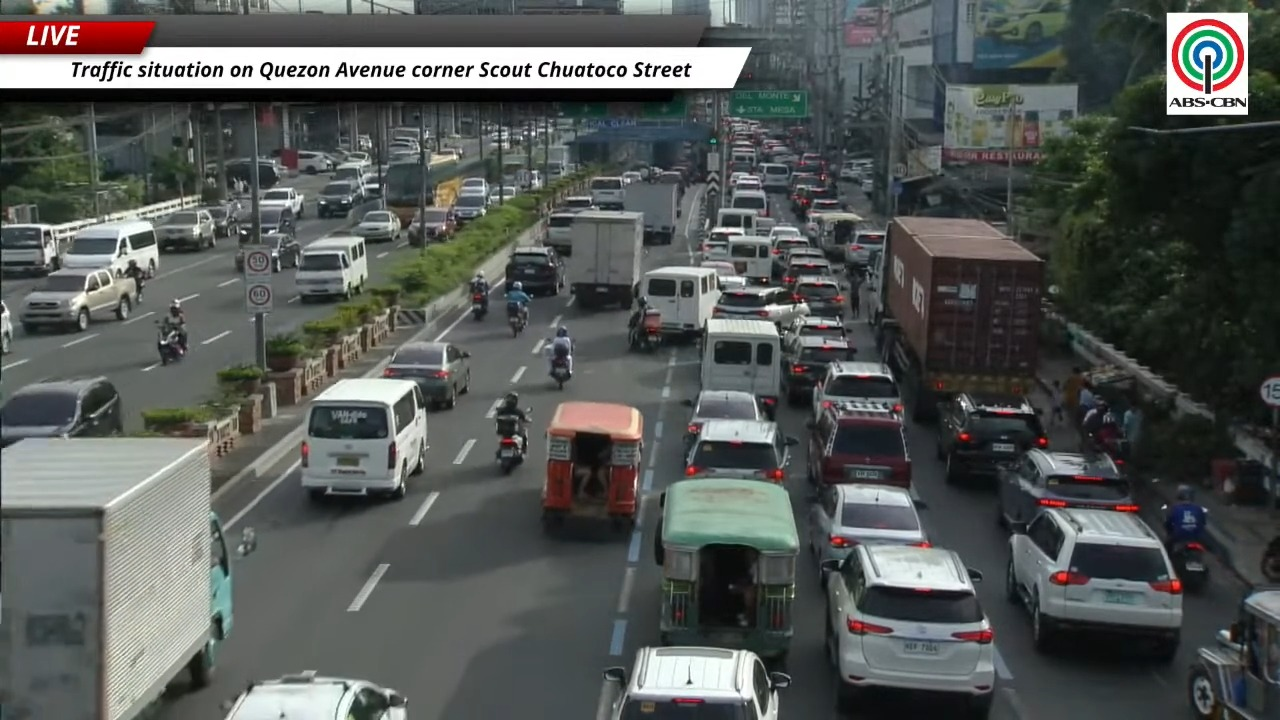bus: (383, 155, 460, 226)
car: (823, 544, 995, 717), (1005, 508, 1182, 661), (604, 646, 790, 719), (997, 450, 1138, 525), (937, 392, 1048, 482), (808, 484, 929, 565), (807, 402, 911, 487), (225, 671, 407, 719), (0, 376, 122, 445), (20, 268, 135, 334), (685, 419, 797, 483), (383, 341, 470, 408), (812, 361, 902, 417), (782, 336, 855, 405), (683, 390, 765, 451), (982, 0, 1067, 45), (712, 286, 808, 325), (505, 246, 564, 295), (155, 208, 216, 250), (792, 275, 845, 317), (782, 253, 834, 291), (407, 208, 455, 246), (804, 193, 845, 236), (771, 236, 811, 279), (317, 180, 362, 218), (783, 316, 846, 342), (845, 229, 886, 268), (353, 210, 400, 242), (262, 234, 301, 272), (699, 227, 745, 259), (200, 201, 239, 237), (453, 189, 488, 224), (698, 260, 739, 288), (790, 180, 818, 219), (259, 207, 296, 236), (778, 242, 824, 265), (297, 150, 333, 174), (0, 301, 13, 354), (458, 176, 489, 197), (790, 173, 820, 193), (769, 225, 802, 242), (558, 196, 594, 211), (489, 185, 517, 204), (719, 275, 748, 291), (839, 161, 860, 181), (346, 152, 371, 164), (621, 171, 642, 183), (860, 178, 873, 195)
motorcycle: (1170, 540, 1209, 592), (1170, 541, 1208, 592), (495, 414, 526, 473), (629, 311, 662, 352), (1094, 437, 1130, 471), (157, 323, 185, 364), (1260, 535, 1279, 583), (550, 358, 570, 389), (508, 311, 526, 336), (471, 293, 487, 320)
truck: (0, 439, 255, 719), (869, 216, 1044, 421), (566, 211, 643, 308), (624, 182, 679, 244), (0, 223, 63, 274), (259, 187, 304, 217)
